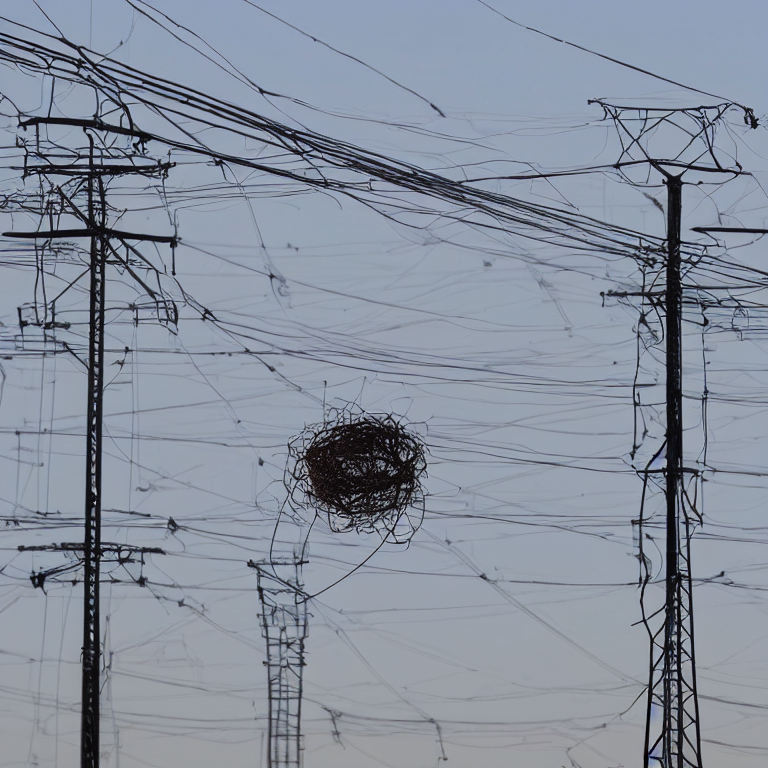nest: (300, 421, 418, 516)
